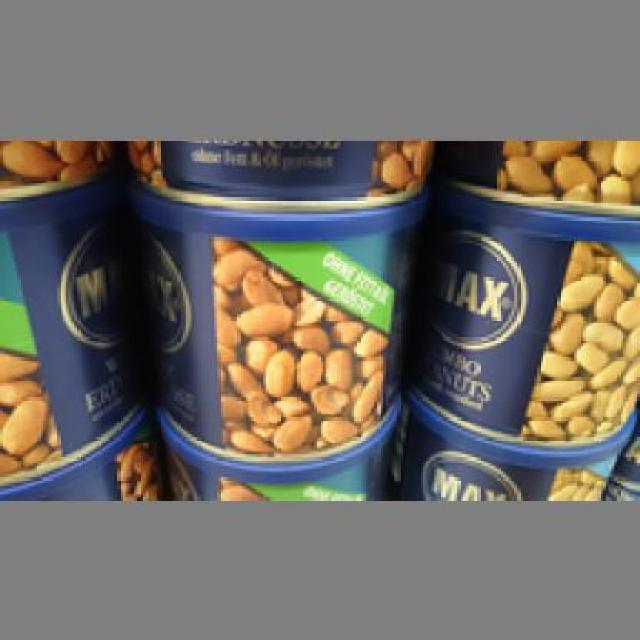Nuts: (119, 177, 435, 454), (405, 183, 638, 446), (0, 168, 140, 488)
